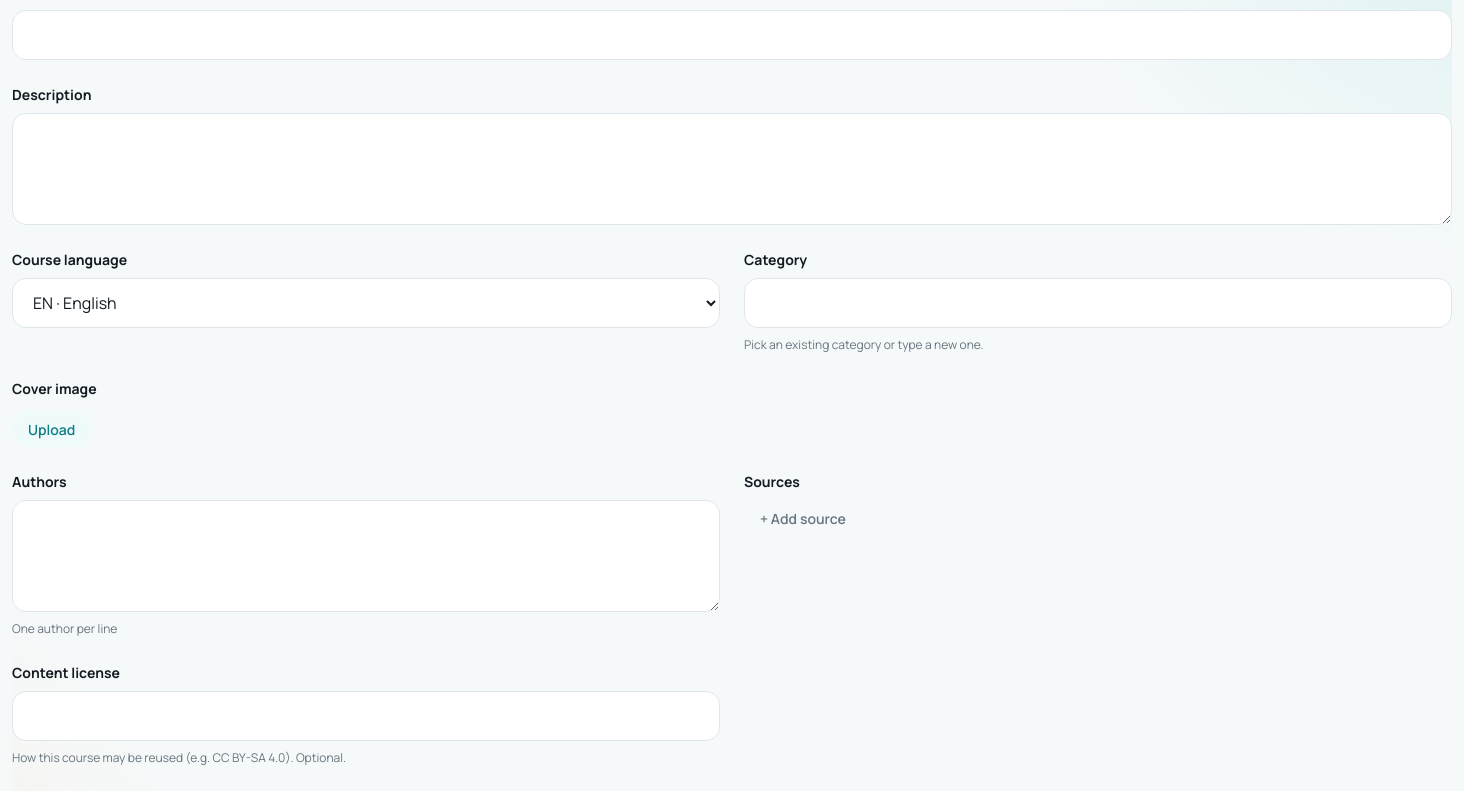
it: CourseDetailsForm › Creating a course › shows the error when submitting fails
The image size is (1464, 791).
Type "x" into the field labelled "Title" at [732, 35], box [12,10,1452,60]
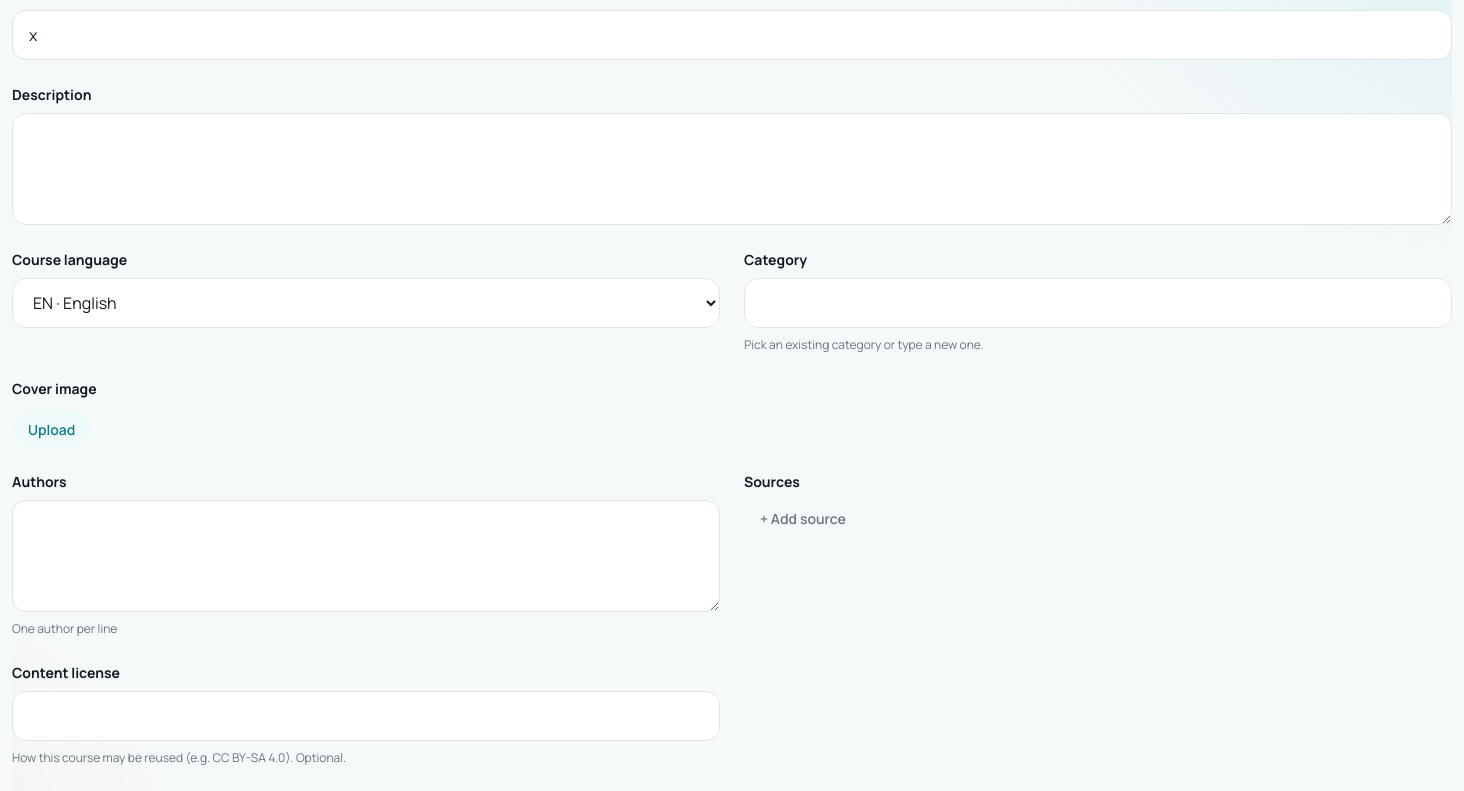
Type "y" into the text box labelled "Description" at [732, 169], box [12,113,1452,225]
(page scrolled)
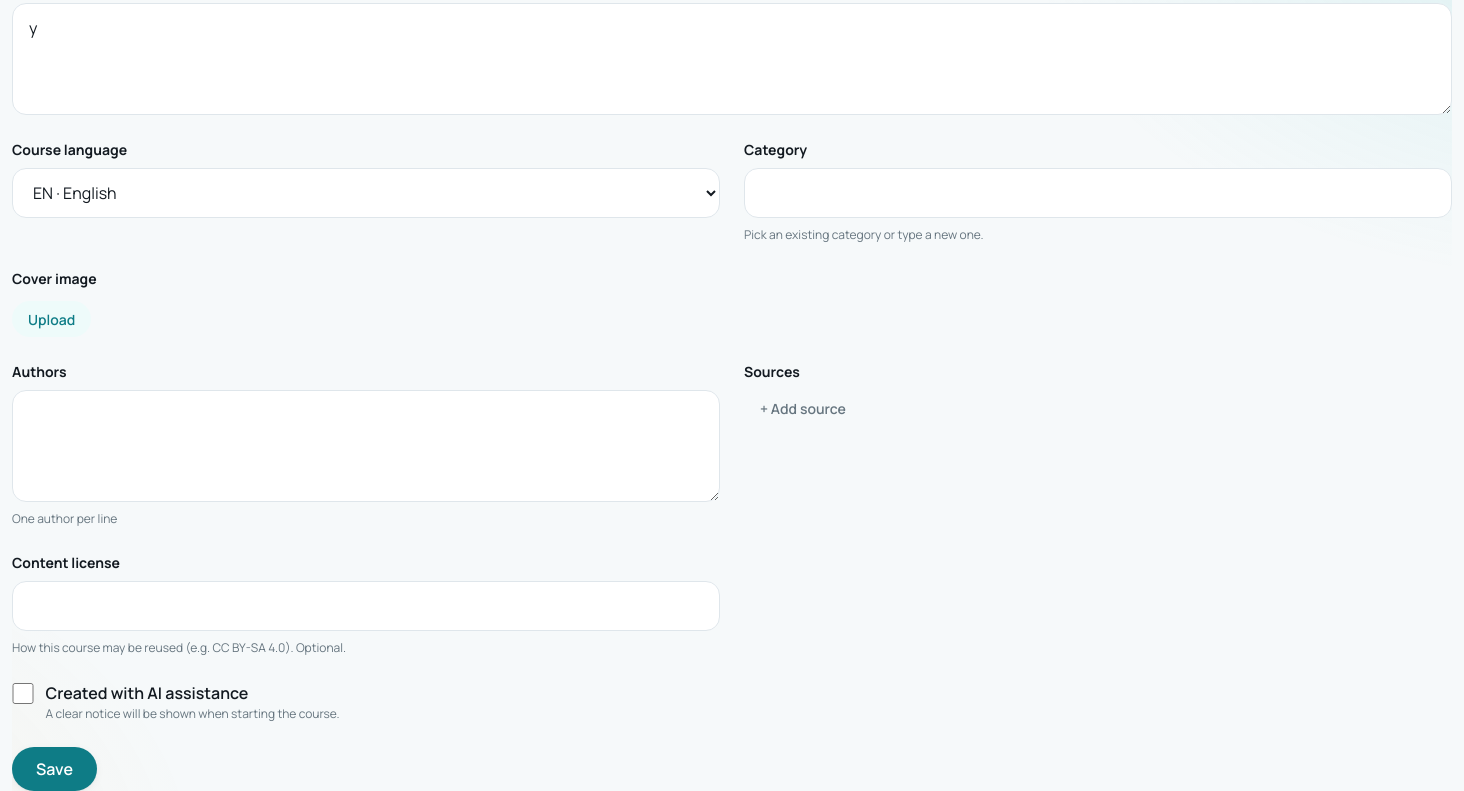
Click the button "Save" at [54, 769], box [12,747,97,790]
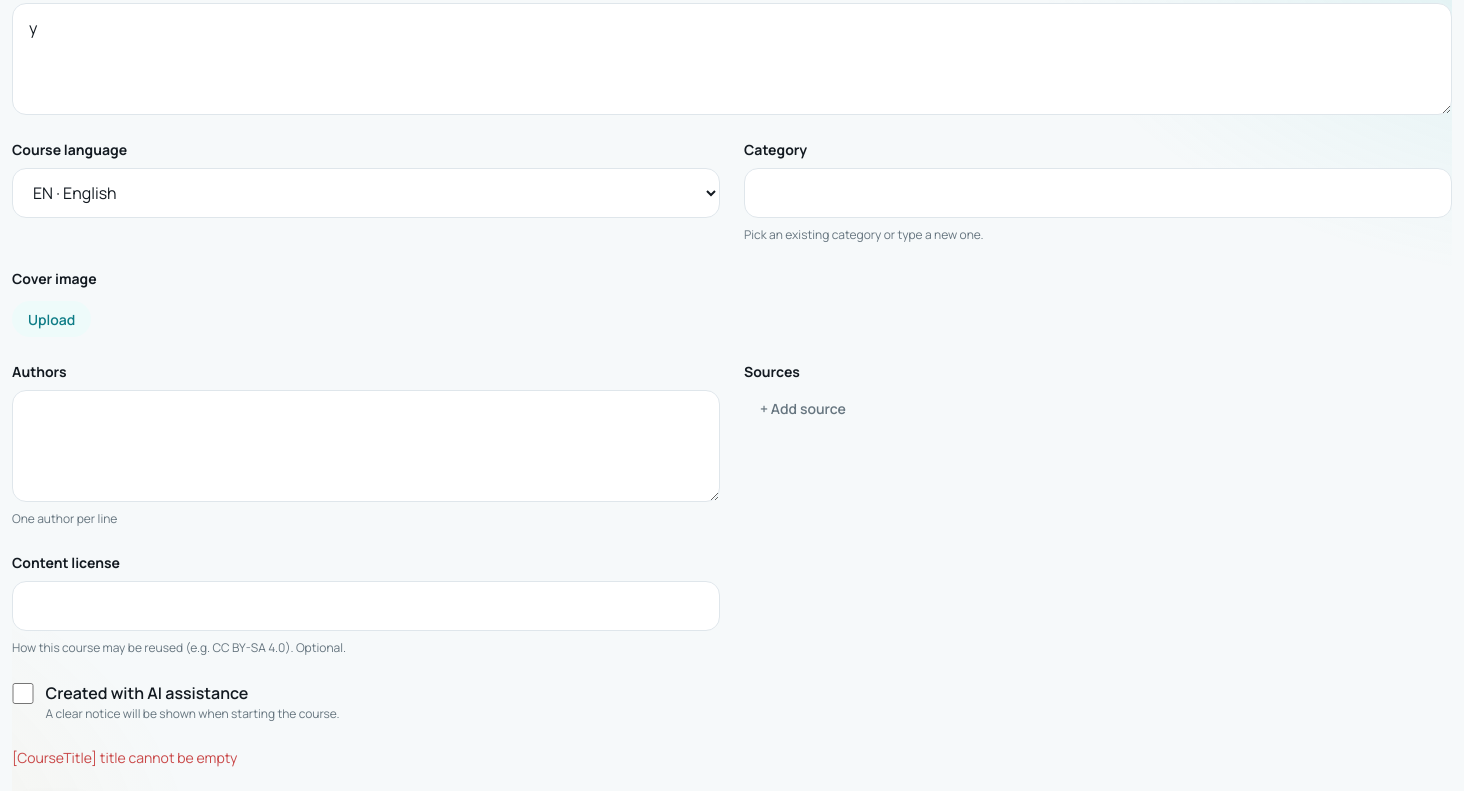
Now the message reads "[CourseTitle] title cannot be empty", box [12,748,238,767]
